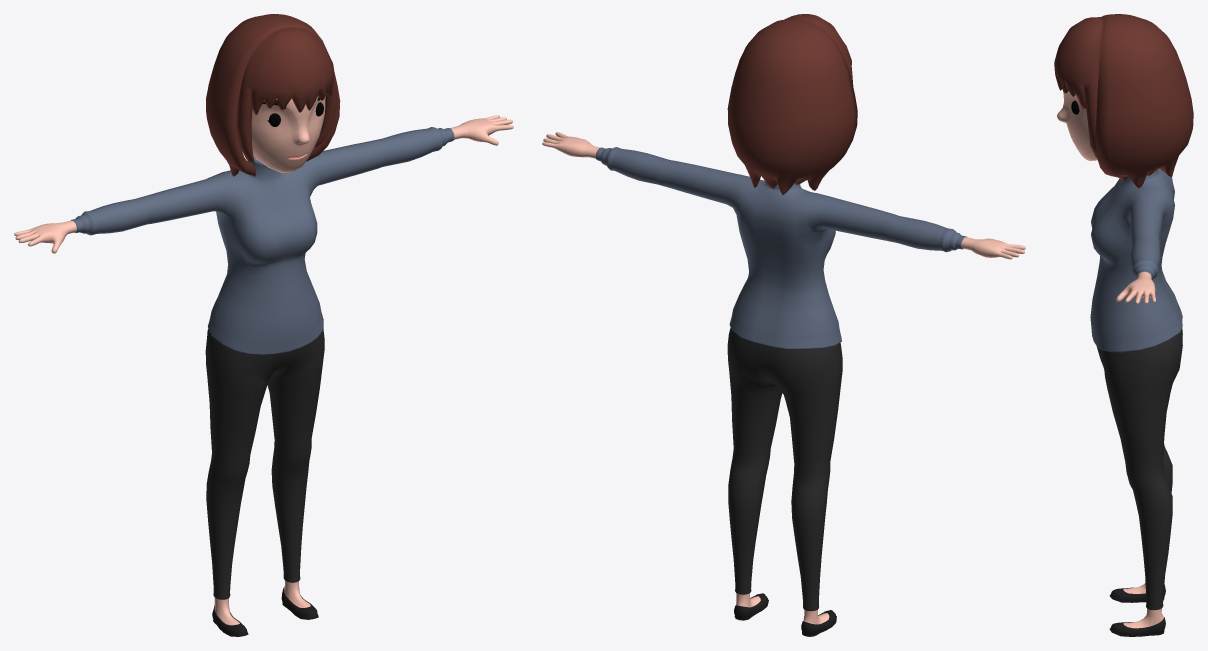
The model's file is Girl.FBX.
3 renders of one model, left to right at view 1: azimuth 30°, elevation 25°; view 2: azimuth 150°, elevation 25°; view 3: azimuth 270°, elevation 25°, orthographic. The views are drawn at different scales.
Visible parts, largest first — view 1: Girl; view 2: Girl; view 3: Girl.
Part boxes in pixels (box(x1,y1,x2,y2)): Girl: box(14, 14, 513, 636); Girl: box(542, 14, 1025, 636); Girl: box(1054, 14, 1193, 636).
Size of the model in its own units: 148 by 174 by 36.91.
